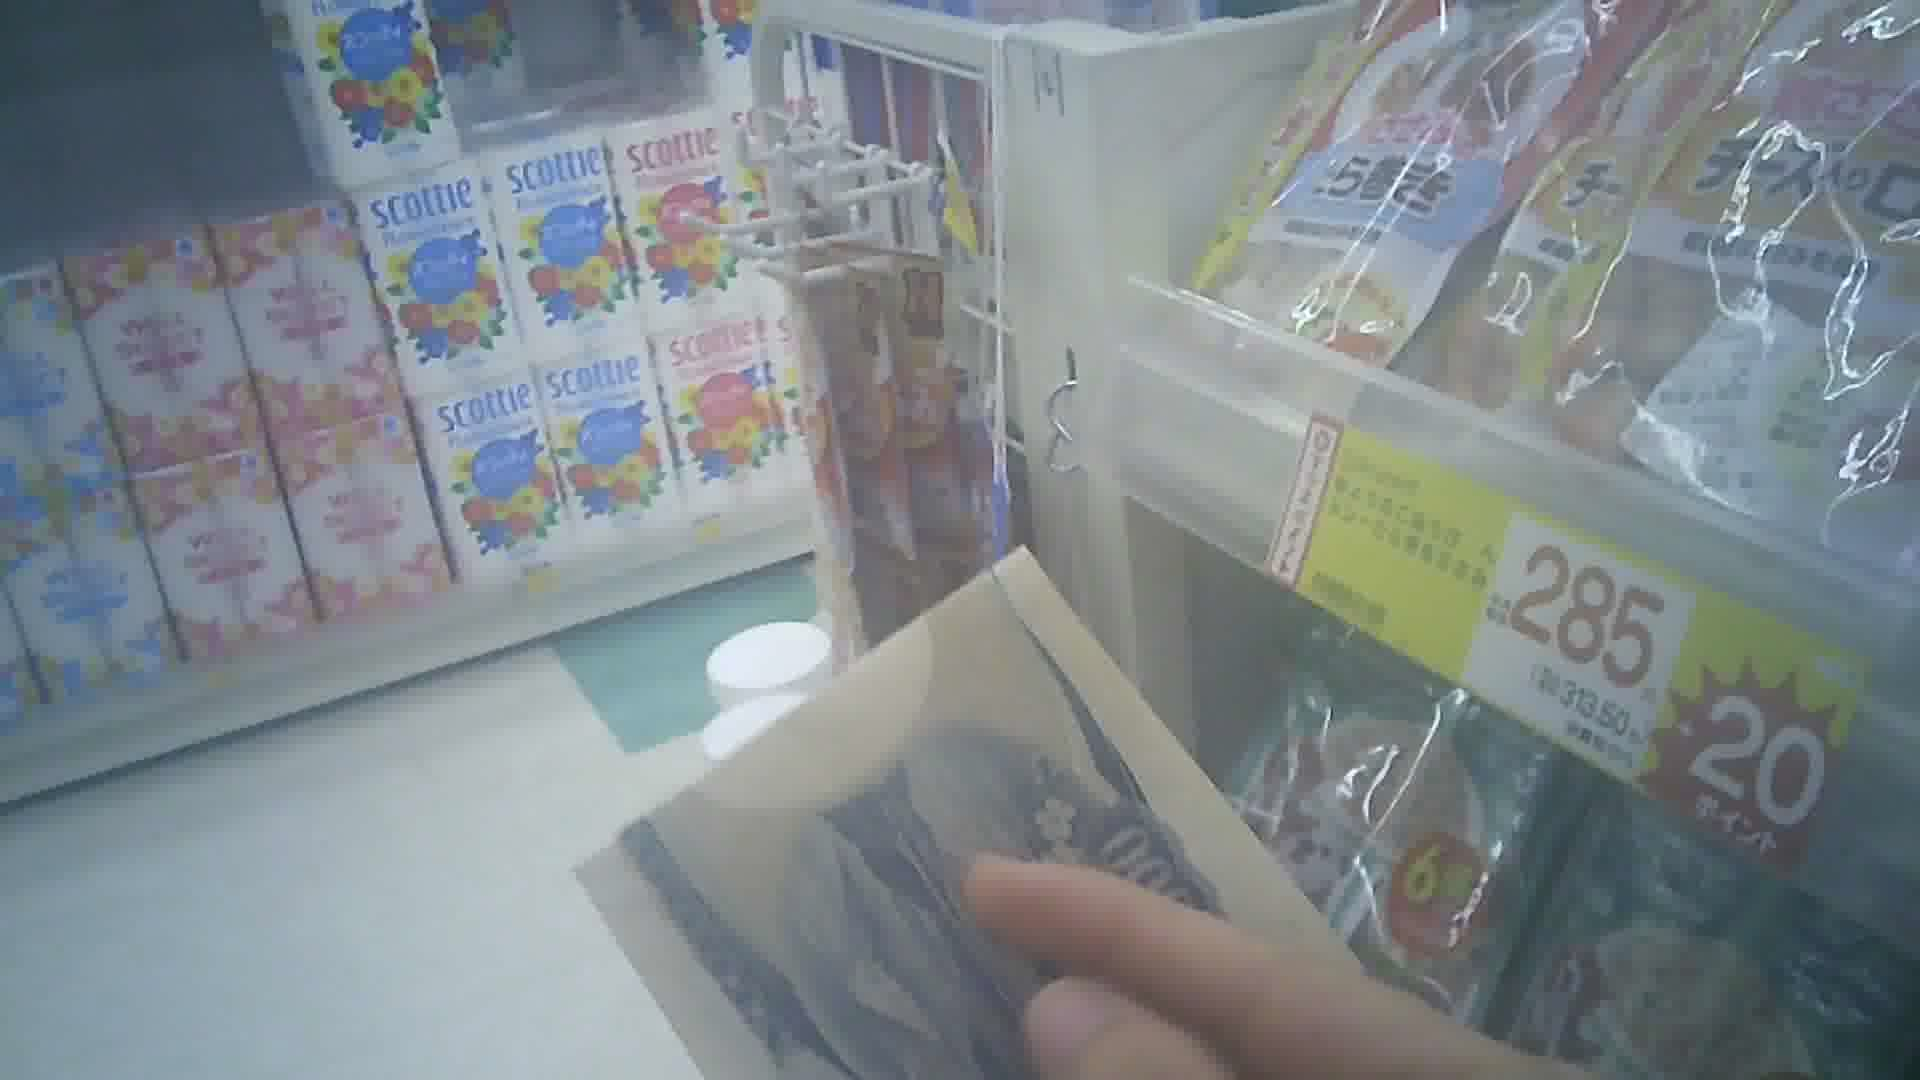1,000 Yen: (560, 582, 1226, 1079)
